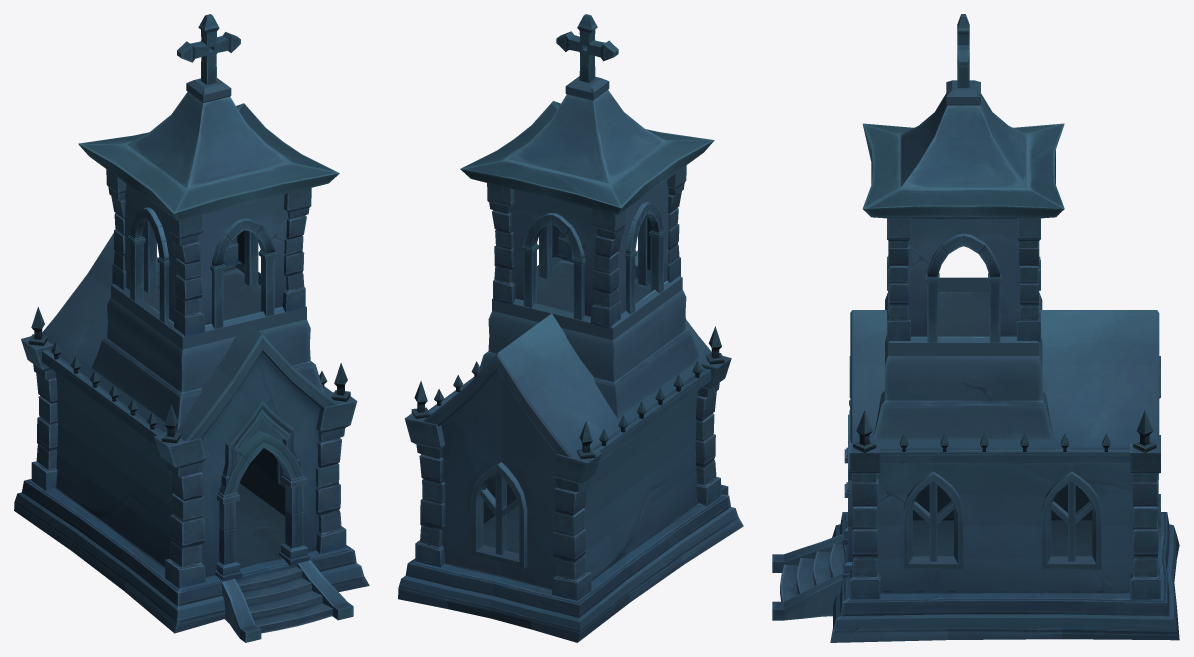
File: church2.fbx
The picture shows the model from 3 angles, left to right: view 1: azimuth 30°, elevation 25°; view 2: azimuth 150°, elevation 25°; view 3: azimuth 270°, elevation 25°; orthographic projection. The views are drawn at different scales.
Visible parts, largest first — view 1: Church_Tower.001, Base.003, Roof.005, Pillars.004, Pillars.005, Gate.001, Roof.004, Base.002, Roof.001; view 2: Base.003, Church_Tower.001, Roof.005, Pillars.004, Pillars.005, Roof.004, Gate.004, Roof.001; view 3: Church_Tower.001, Base.003, Roof.005, Pillars.004, Gate.004, Pillars.005, Base.002, Roof.004, Roof.001, Gate.001.
Boxes of the visible parts, x1=… form: Church_Tower.001: x1=78, y1=14, x2=339, y2=430; Base.003: x1=14, y1=352, x2=369, y2=633; Roof.005: x1=42, y1=233, x2=338, y2=445; Pillars.004: x1=21, y1=336, x2=357, y2=588; Pillars.005: x1=106, y1=169, x2=311, y2=337; Gate.001: x1=215, y1=398, x2=309, y2=581; Roof.004: x1=128, y1=207, x2=276, y2=328; Base.002: x1=216, y1=559, x2=353, y2=642; Roof.001: x1=28, y1=307, x2=350, y2=443; Base.003: x1=398, y1=371, x2=743, y2=642; Church_Tower.001: x1=460, y1=14, x2=714, y2=419; Roof.005: x1=423, y1=250, x2=711, y2=462; Pillars.004: x1=404, y1=356, x2=731, y2=600; Pillars.005: x1=487, y1=165, x2=686, y2=328; Roof.004: x1=521, y1=202, x2=665, y2=320; Gate.004: x1=471, y1=461, x2=527, y2=568; Roof.001: x1=411, y1=326, x2=724, y2=458; Church_Tower.001: x1=862, y1=14, x2=1064, y2=439; Base.003: x1=830, y1=464, x2=1179, y2=642; Roof.005: x1=850, y1=310, x2=1159, y2=464; Pillars.004: x1=849, y1=356, x2=1160, y2=599; Gate.004: x1=903, y1=471, x2=1158, y2=569; Pillars.005: x1=887, y1=218, x2=1040, y2=342; Base.002: x1=772, y1=534, x2=849, y2=620; Roof.004: x1=887, y1=233, x2=1040, y2=342; Roof.001: x1=853, y1=410, x2=1156, y2=453; Gate.001: x1=842, y1=400, x2=853, y2=578.
Bounding box in the file's own units: 465 × 1248 × 798.
